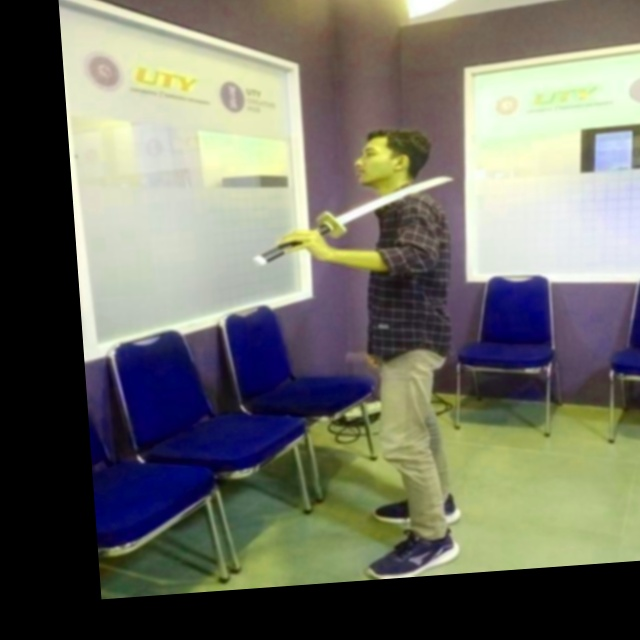Sharp-Object: (245, 170, 461, 268)
